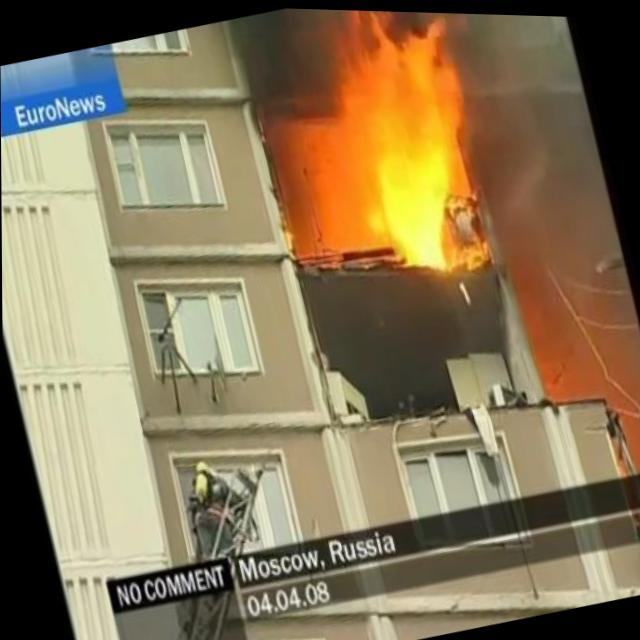fire: (301, 7, 511, 289)
